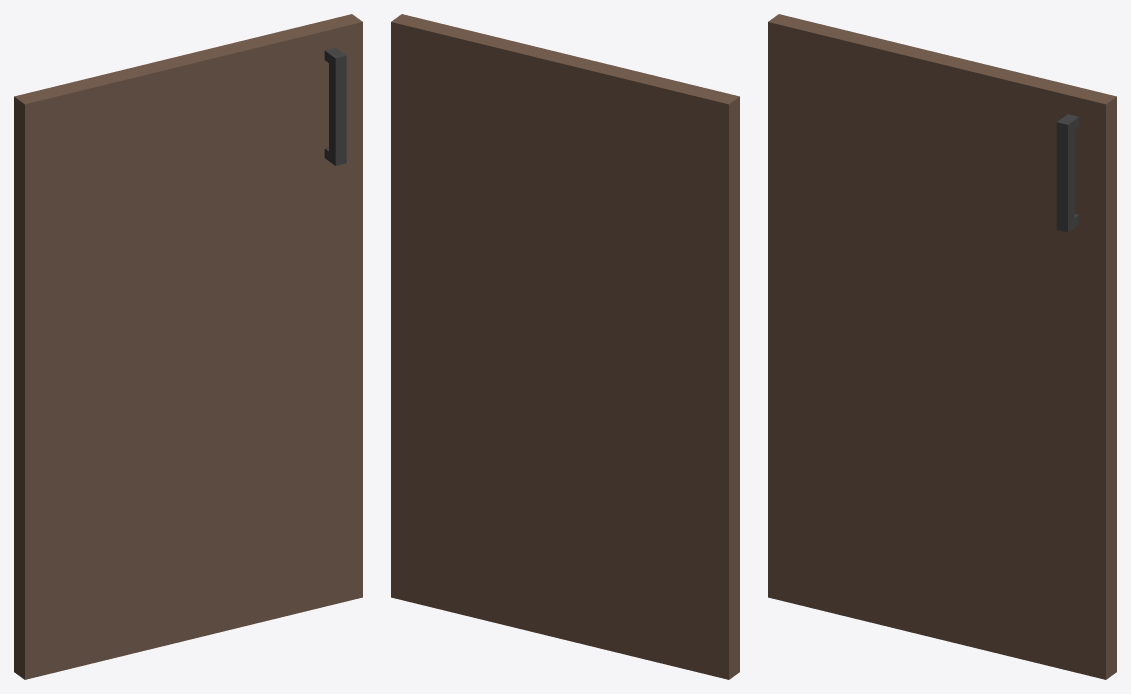
Rendered from BathroomDoor_C2_07.fbx.
The picture shows the model from 3 angles, left to right: view 1: azimuth 30°, elevation 25°; view 2: azimuth 150°, elevation 25°; view 3: azimuth 330°, elevation 25°; orthographic projection.
Visible parts, largest first — view 1: BathroomDoor_C2_07; view 2: BathroomDoor_C2_07; view 3: BathroomDoor_C2_07.
Boxes of the visible parts, <box> form: BathroomDoor_C2_07: <box>14,14,362,679</box>; BathroomDoor_C2_07: <box>391,14,739,679</box>; BathroomDoor_C2_07: <box>768,14,1116,679</box>.
Size of the model in its own units: 45 by 73.19 by 5.03.
